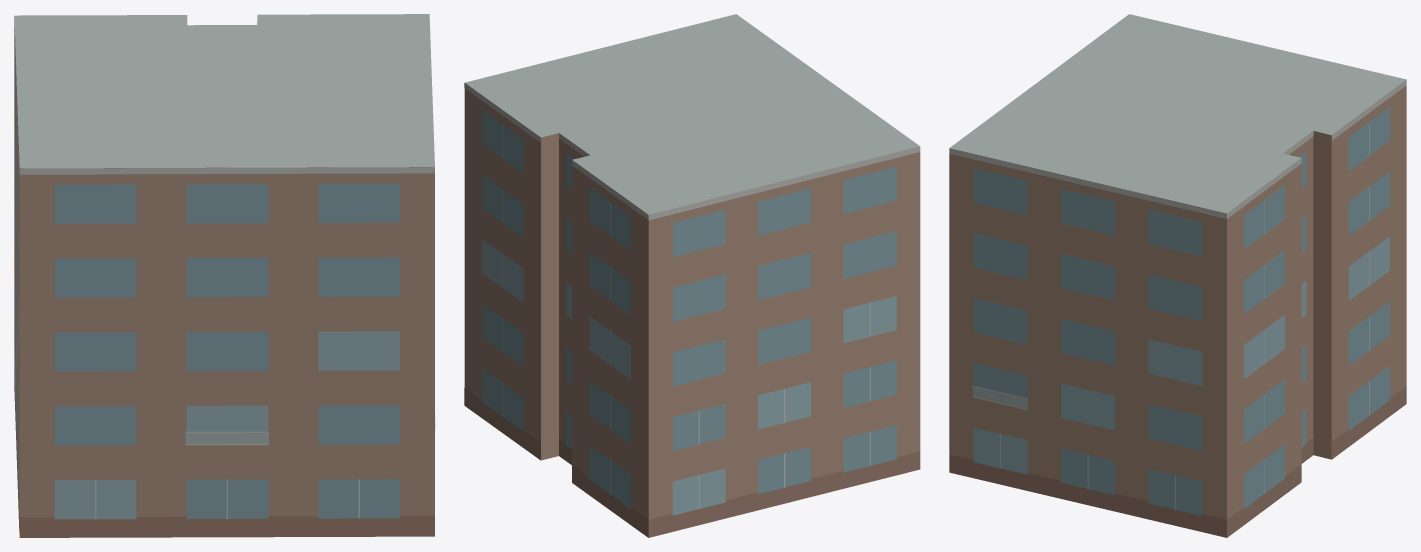
The model's file is survey-upis-32883262.glb.
3 views of the same model, side by side, from view 1: azimuth 30°, elevation 25°; view 2: azimuth 150°, elevation 25°; view 3: azimuth 270°, elevation 25° (orthographic). The views are drawn at different scales.
Visible parts, largest first — view 1: survey-upis-32883262.tmp; view 2: survey-upis-32883262.tmp; view 3: survey-upis-32883262.tmp.
Boxes of the visible parts, x1,y1,x2,y2 form: survey-upis-32883262.tmp: [14, 14, 435, 537]; survey-upis-32883262.tmp: [464, 14, 920, 537]; survey-upis-32883262.tmp: [949, 14, 1406, 537].
Bounding box in the file's own units: 18.74 × 14.2 × 18.15.
